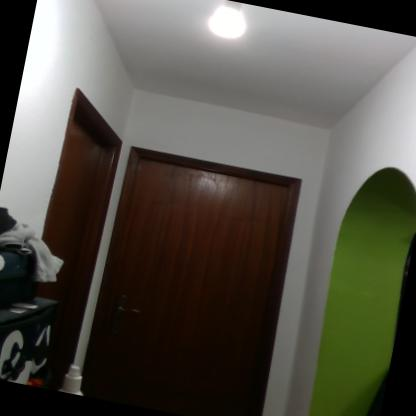closed: (65, 127, 325, 415), (14, 82, 136, 394)
